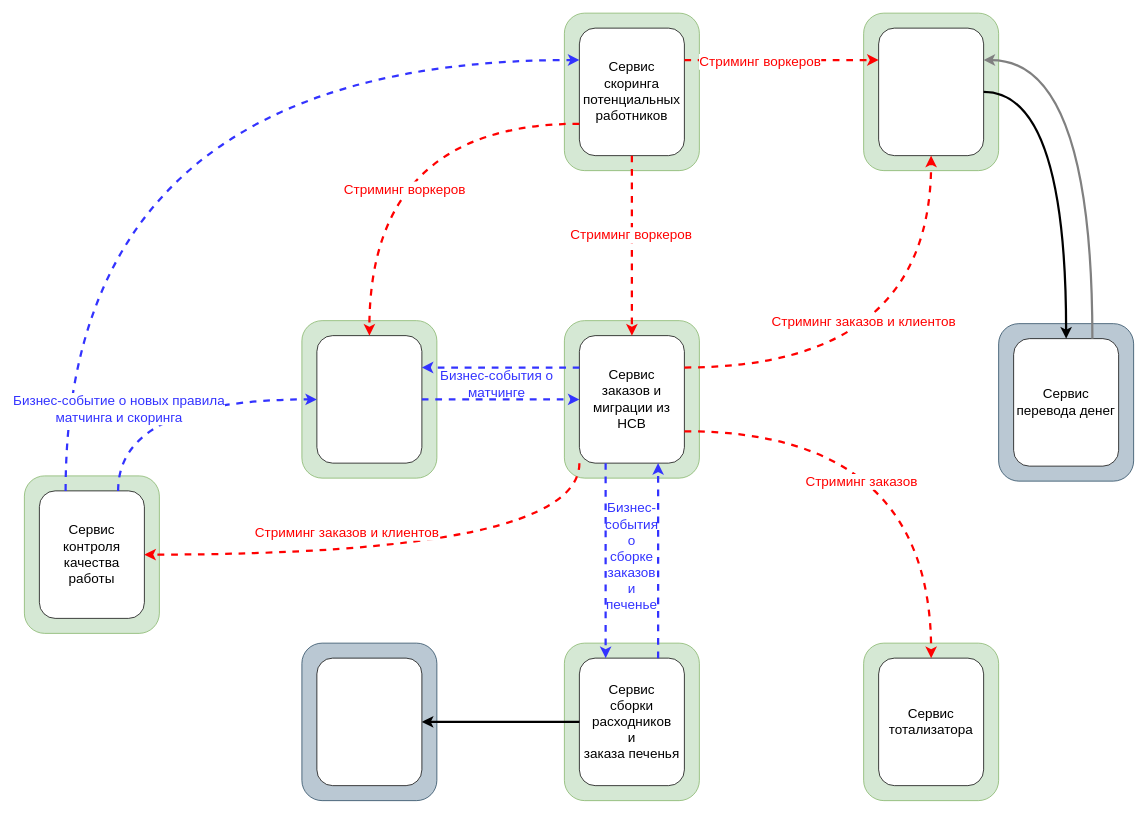
The diagram is 1147 pixels wide and 814 high, and some of its shapes have lost their labels. The shapes that lost their labels are listed below. From the top down, each one's centre as x and y in pixels, then its label:
At (931,91): "Сервис расчета, списания средств и выплат".
At (369,399): "Сервис матчинга клиентов и воркеров".
At (369,721): "Сервис изготовления печенья".
